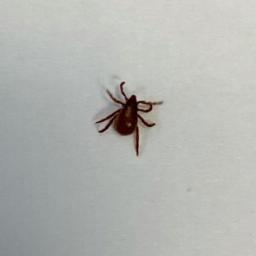Rhipicephalus sanguineus: (94, 80, 163, 156)
